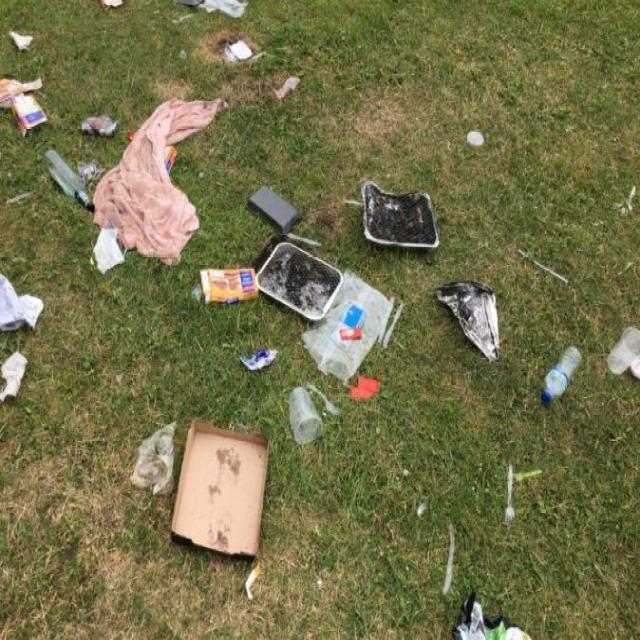metal: (502, 459, 520, 533)
paper: (164, 407, 284, 571), (300, 262, 396, 385), (430, 268, 518, 375), (199, 265, 262, 309), (10, 90, 59, 142), (92, 222, 128, 279), (0, 349, 32, 404), (5, 23, 40, 61), (224, 36, 258, 72)
plastic: (247, 178, 306, 242), (0, 268, 49, 344), (537, 335, 585, 412), (601, 316, 640, 398), (286, 380, 329, 450)
